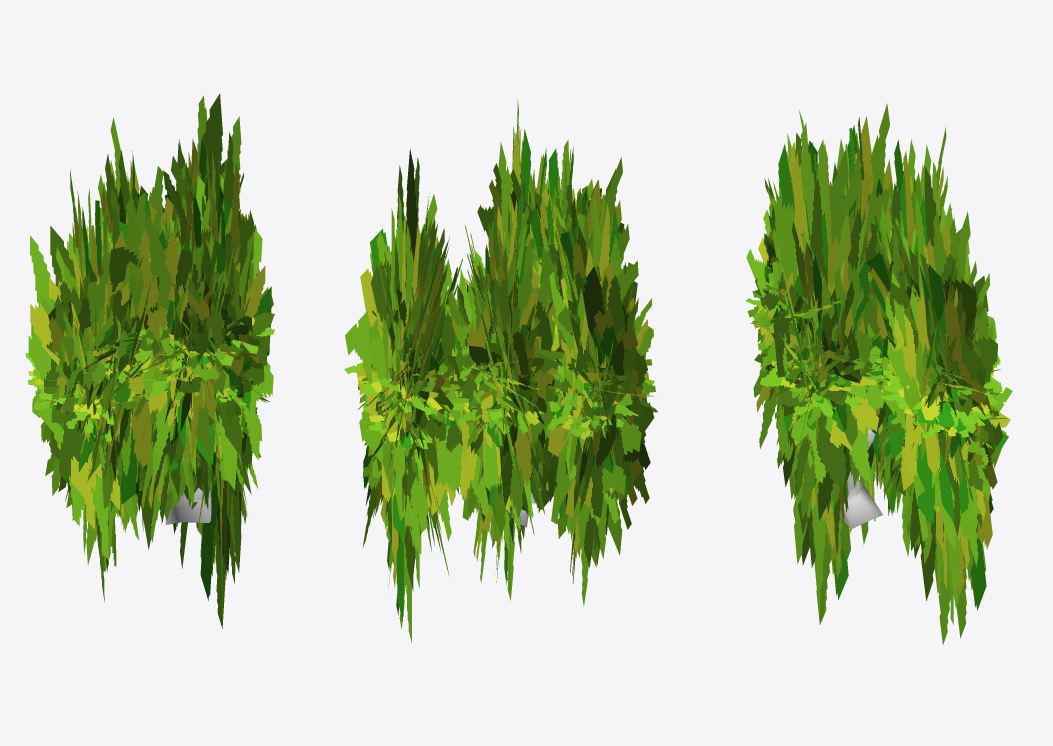
Rendered from tropic-tree2-2.fbx.
3 views of the same model, side by side, from view 1: azimuth 30°, elevation 25°; view 2: azimuth 150°, elevation 25°; view 3: azimuth 270°, elevation 25° (orthographic).
Parts seen in each view (by area): view 1: Plane.002, Cube|Plane|Dupli|239, Cube|Plane|Dupli|5, Cube|Plane|Dupli|188, Cube|Plane|Dupli|229, Cube|Plane|Dupli|171, Cube|Plane|Dupli|175, Cube|Plane|Dupli|196, Cube|Plane|Dupli|23, Cube|Plane|Dupli|141, Cube|Plane|Dupli|195, Cube|Plane|Dupli|217 (+35 smaller); view 2: Plane.002, Cube|Plane|Dupli|239, Cube|Plane|Dupli|269, Cube|Plane|Dupli|71, Cube|Plane|Dupli|99, Cube|Plane|Dupli|123, Cube|Plane|Dupli|113, Cube|Plane|Dupli|285, Cube|Plane|Dupli|56, Cube|Plane|Dupli|2, Cube|Plane|Dupli|43, Cube|Plane|Dupli|250 (+34 smaller); view 3: Plane.002, Cube|Plane|Dupli|5, Cube|Plane|Dupli|2, Cube|Plane|Dupli|10, Cube|Plane|Dupli|141, Cube|Plane|Dupli|99, Cube|Plane|Dupli|14, Cube|Plane|Dupli|144, Cube|Plane|Dupli|123, Cube|Plane|Dupli|113, Cube|Plane|Dupli|97, Cube|Plane|Dupli|285 (+33 smaller).
Boxes of the visible parts, x1,y1,x2,y2 form: Plane.002: (25,293,275,447); Cube|Plane|Dupli|239: (28,226,120,559); Cube|Plane|Dupli|5: (196,131,253,628); Cube|Plane|Dupli|188: (168,174,273,490); Cube|Plane|Dupli|229: (101,192,174,508); Cube|Plane|Dupli|171: (128,214,200,520); Cube|Plane|Dupli|175: (139,246,216,350); Cube|Plane|Dupli|196: (174,200,226,465); Cube|Plane|Dupli|23: (171,233,271,509); Cube|Plane|Dupli|141: (181,93,246,221); Cube|Plane|Dupli|195: (176,185,219,508); Cube|Plane|Dupli|217: (87,231,140,348); Plane.002: (344,262,657,469); Cube|Plane|Dupli|239: (569,266,654,529); Cube|Plane|Dupli|269: (547,256,652,540); Cube|Plane|Dupli|71: (467,239,552,537); Cube|Plane|Dupli|99: (383,194,419,642); Cube|Plane|Dupli|123: (345,216,459,532); Cube|Plane|Dupli|113: (368,226,464,540); Cube|Plane|Dupli|285: (569,196,619,606); Cube|Plane|Dupli|56: (455,258,552,425); Cube|Plane|Dupli|2: (490,129,536,599); Cube|Plane|Dupli|43: (437,275,488,517); Cube|Plane|Dupli|250: (541,216,631,566); Plane.002: (745,258,1012,468); Cube|Plane|Dupli|5: (773,123,851,619); Cube|Plane|Dupli|2: (789,142,860,624); Cube|Plane|Dupli|10: (791,317,883,488); Cube|Plane|Dupli|141: (915,162,953,624); Cube|Plane|Dupli|99: (911,210,1001,638); Cube|Plane|Dupli|14: (801,192,869,520); Cube|Plane|Dupli|144: (893,228,970,541); Cube|Plane|Dupli|123: (908,248,995,466); Cube|Plane|Dupli|113: (882,250,997,496); Cube|Plane|Dupli|97: (914,211,973,644); Cube|Plane|Dupli|285: (845,103,892,544).
Bounding box in the file's own units: 4028 × 8760 × 3633.
